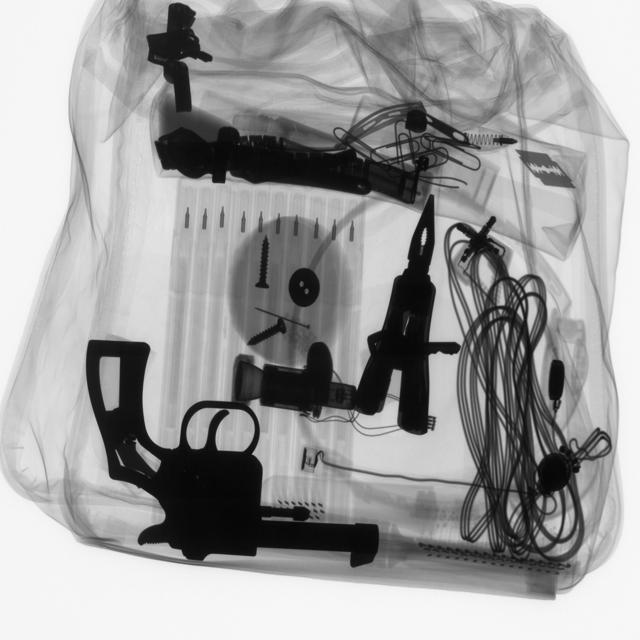gun: (74, 328, 389, 572)
knife: (356, 193, 452, 430)
snail: (256, 231, 275, 297)
